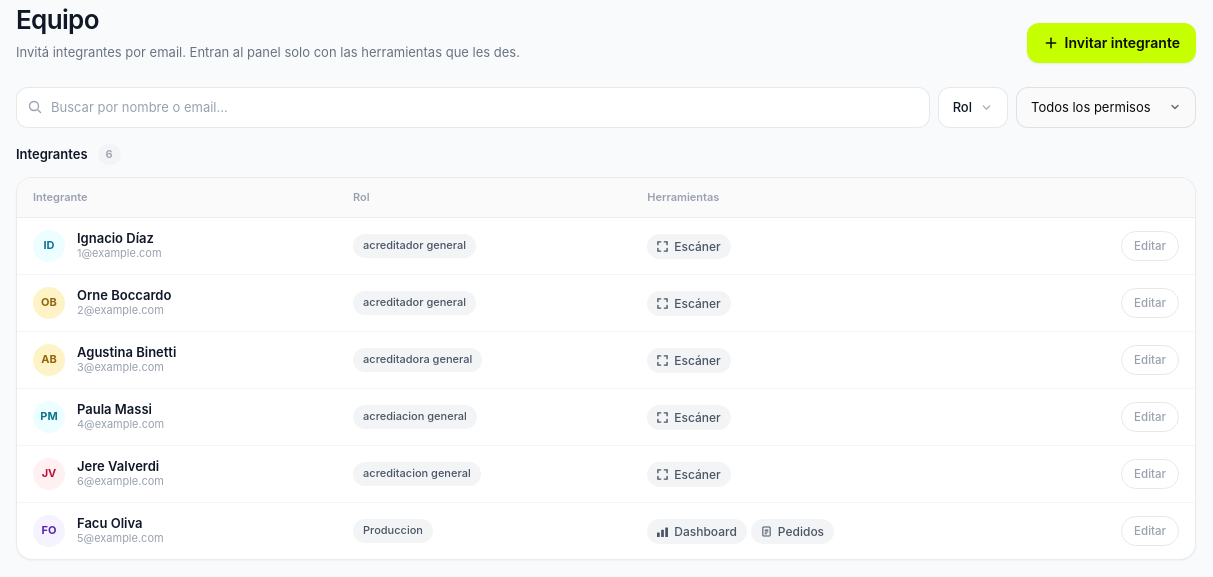
Test: StaffView › lista el equipo y filtra por rol
Expected: the text "Ignacio Díaz" is shown, [77,230,162,246]
Click the button "Rol" at (973, 107), box [938,86,1008,128]
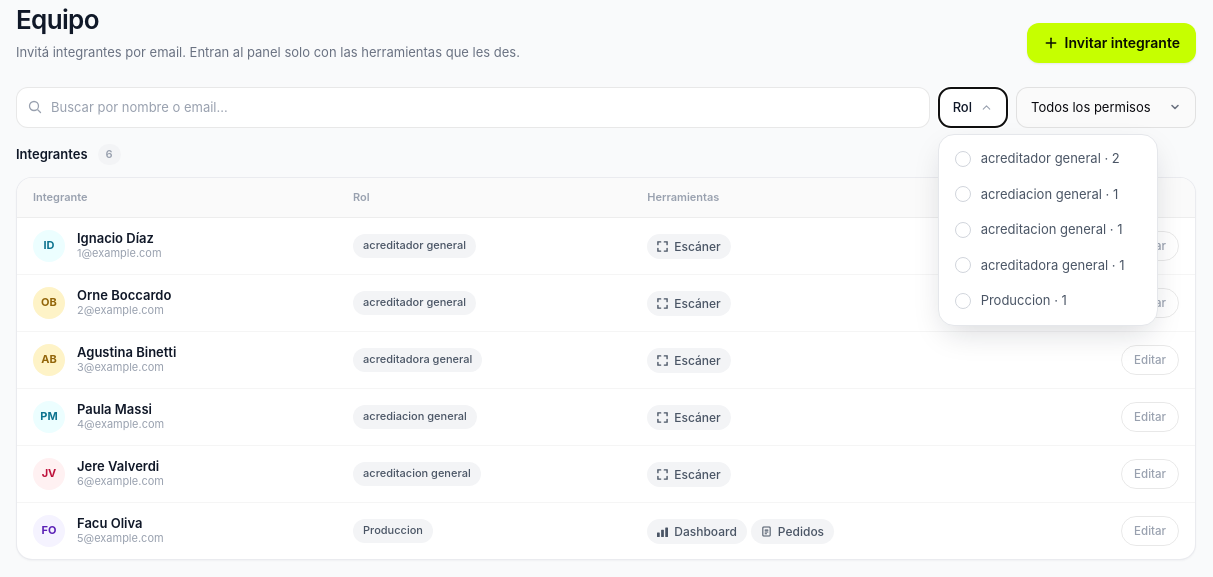
Click the option "Produccion · 1" at (1048, 301), box [945,283,1151,318]
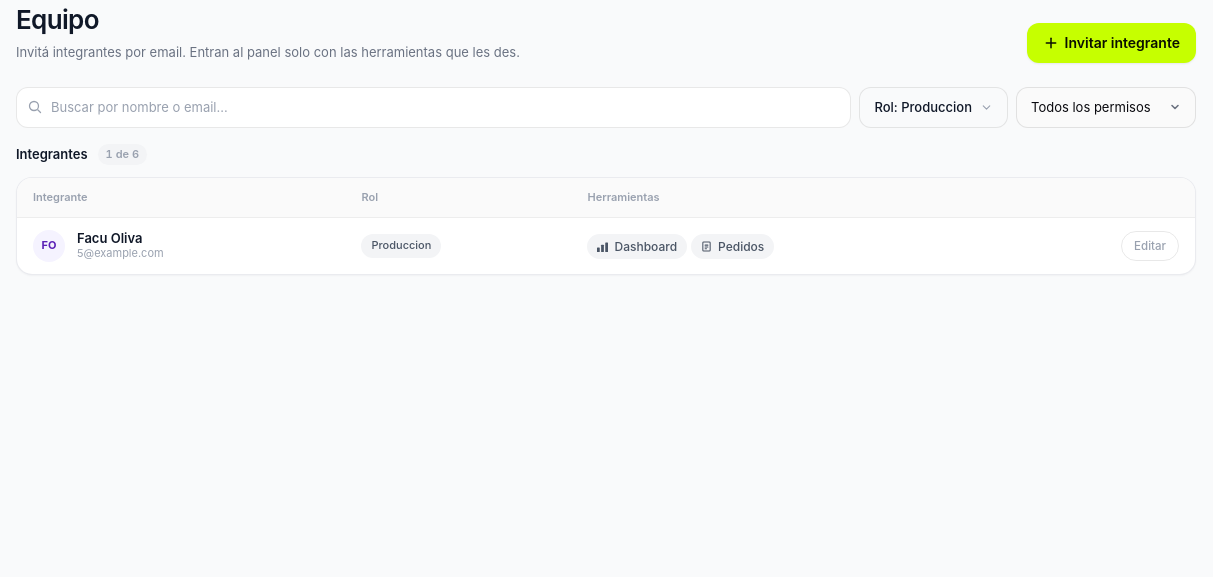
Expected: the text "Facu Oliva" is shown, [77,230,142,246]
Expected: the button "Rol: Produccion" is shown, [859,86,1008,128]
Expected: the text "Ignacio Díaz" is gone
